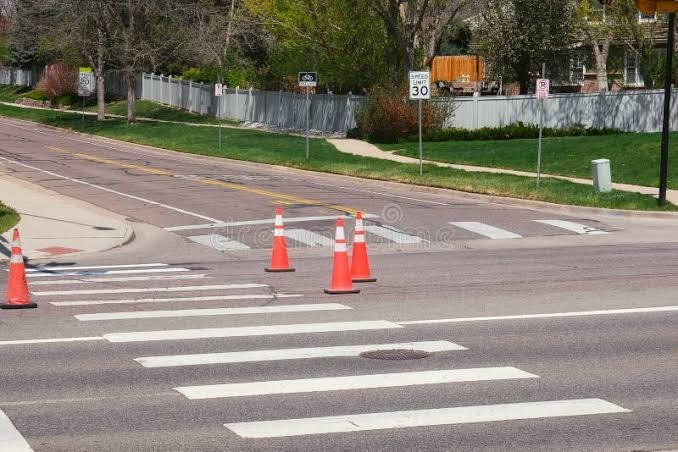safety_cone: (3, 228, 43, 311), (264, 197, 301, 276), (328, 216, 359, 295), (350, 208, 381, 285)
